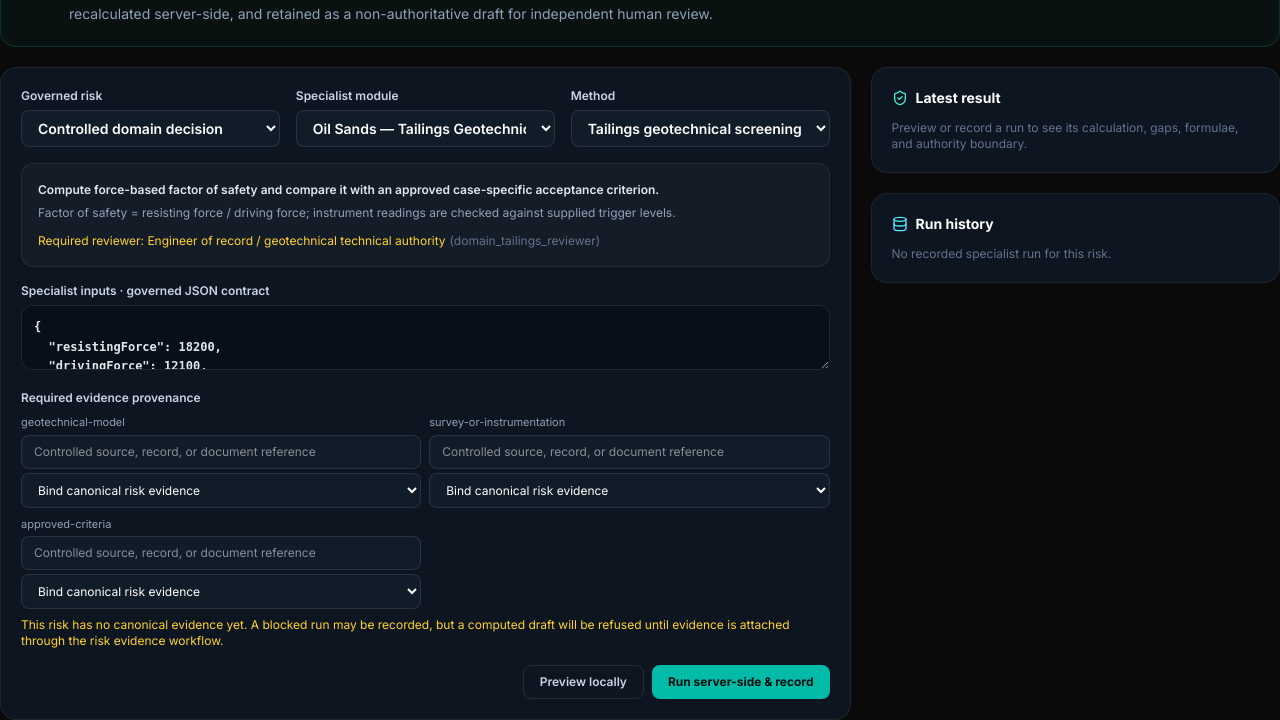
Scenario: DomainSpecialistWorkbench › exposes all 17 modules and refuses a preview without evidence
(page scrolled)
Click the button "Preview locally" at (583, 682), box [523, 665, 644, 699]
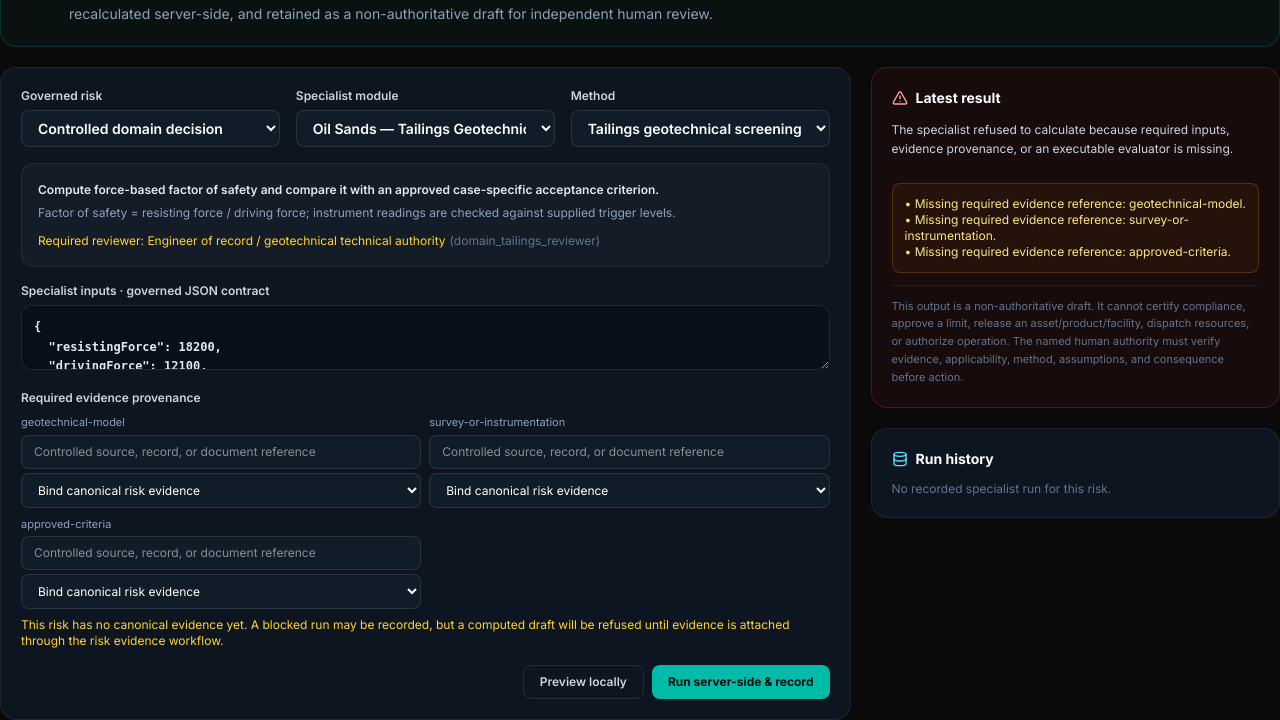
Expected: the text "refused to calculate because required inputs, evidence provenance" is shown, [892, 122, 1233, 156]
Expected: the text "• Missing required evidence reference: geotechnical-model." is shown, [904, 196, 1246, 212]
Expected: the text "cannot certify compliance" is shown, [892, 298, 1249, 384]
